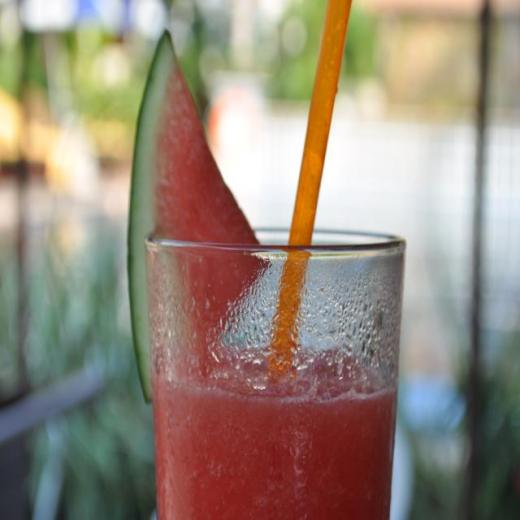Cherry: (127, 29, 273, 404)
